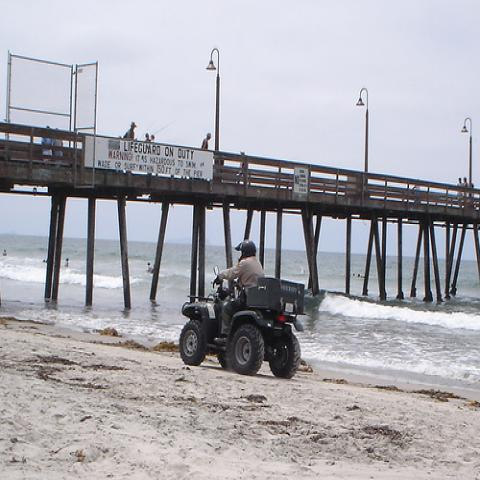truck: (179, 274, 306, 381)
